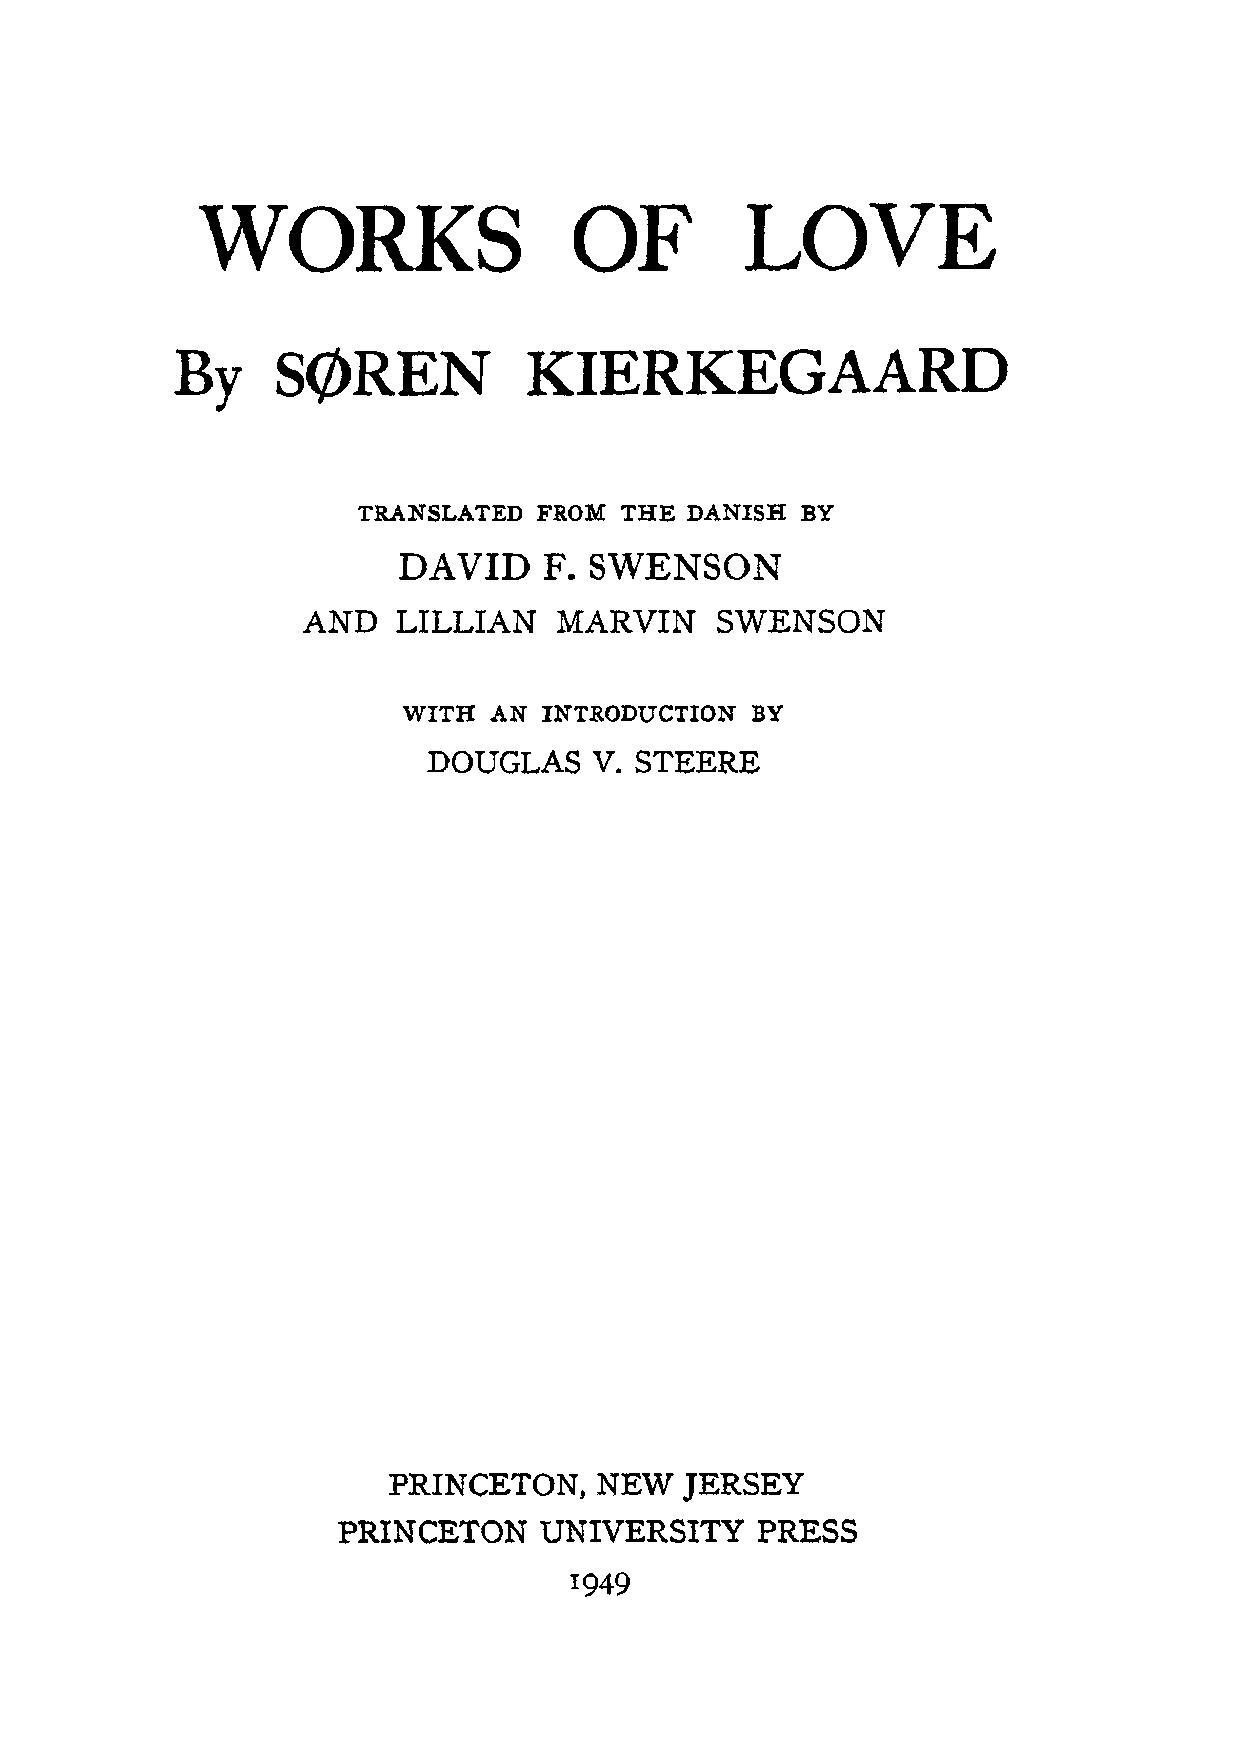author: (301, 501, 887, 637)
title: (170, 200, 1011, 413)
